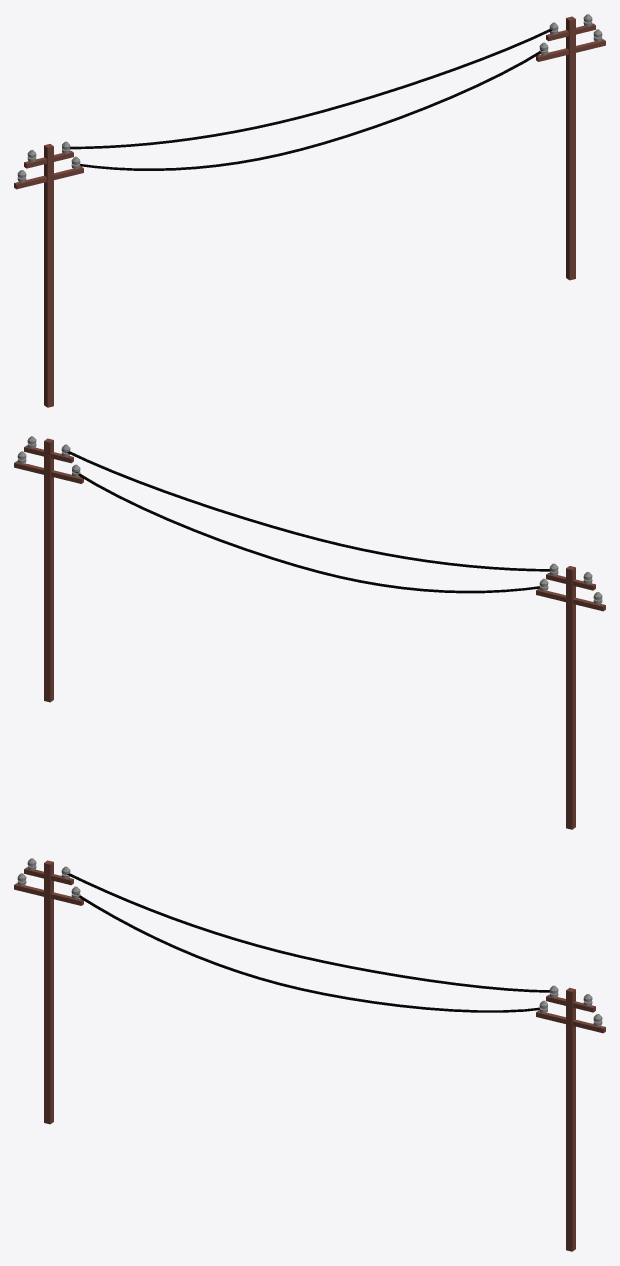
Rendered from 014 Electric_ pole_with_wire.FBX.
The picture shows the model from 3 angles, top to bottom: view 1: azimuth 30°, elevation 25°; view 2: azimuth 150°, elevation 25°; view 3: azimuth 330°, elevation 25°; orthographic projection.
Parts seen in each view (by area): view 1: Line085, Line086, Arc022, Arc021; view 2: Line085, Line086, Arc022, Arc021; view 3: Line086, Line085, Arc022, Arc021.
Boxes of the visible parts, box(x1,y1,x2,y2) form: Line085: box(14, 141, 83, 407); Line086: box(536, 14, 605, 280); Arc022: box(69, 29, 552, 149); Arc021: box(80, 50, 542, 170); Line085: box(536, 563, 605, 829); Line086: box(14, 436, 83, 702); Arc022: box(66, 451, 552, 571); Arc021: box(74, 472, 542, 593); Line086: box(536, 985, 605, 1251); Line085: box(14, 858, 83, 1124); Arc022: box(67, 873, 549, 992); Arc021: box(77, 894, 539, 1012).
Size of the model in its own units: 1359 by 572 by 17.63.
